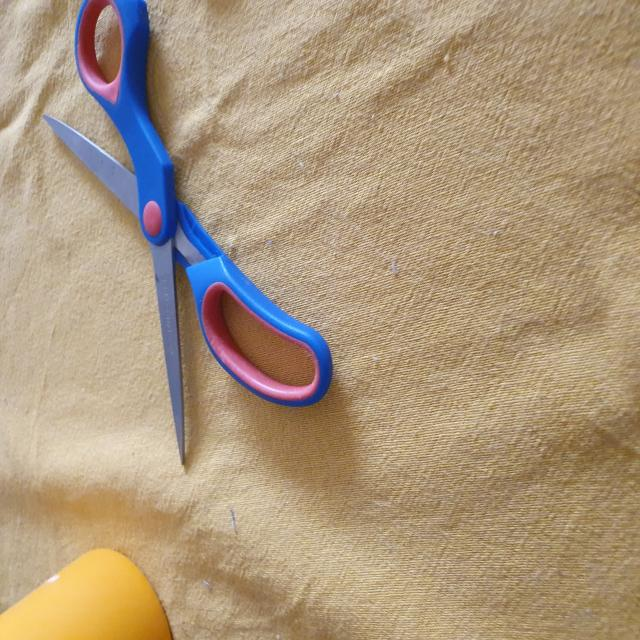scissors: (41, 0, 335, 472)
